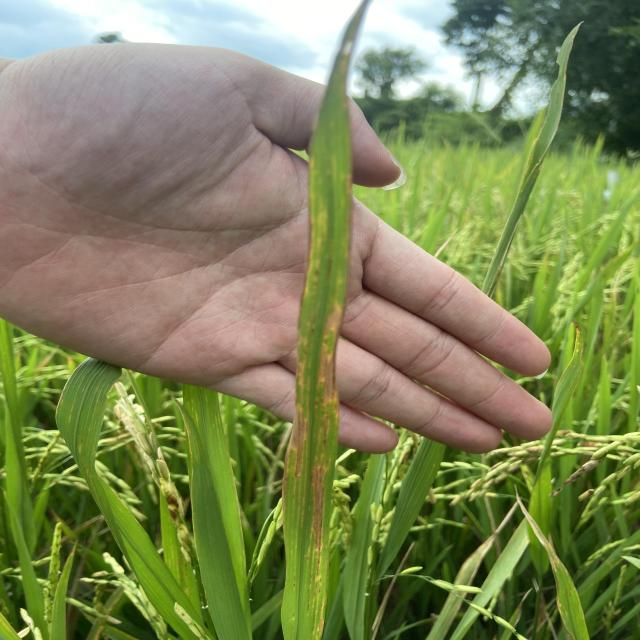Dom soc vi khuan: (306, 411, 332, 637), (282, 402, 309, 528), (315, 301, 343, 411), (317, 599, 325, 632)
